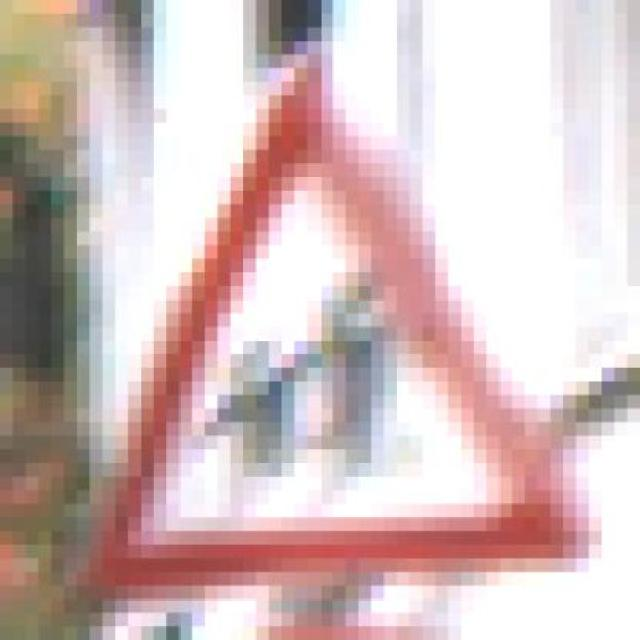Beware of children: (77, 27, 601, 599)
